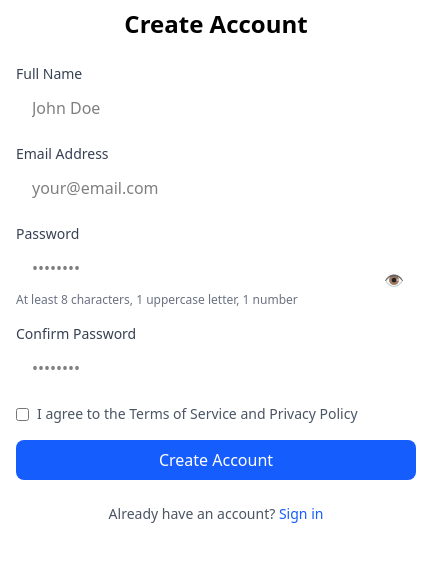
Test case: SignupForm › Password Validation › shows success message when passwords match
The image size is (433, 564).
In the password field labelled "Password": [216, 268] box [16,248,416,288], type "ValidPassword123"
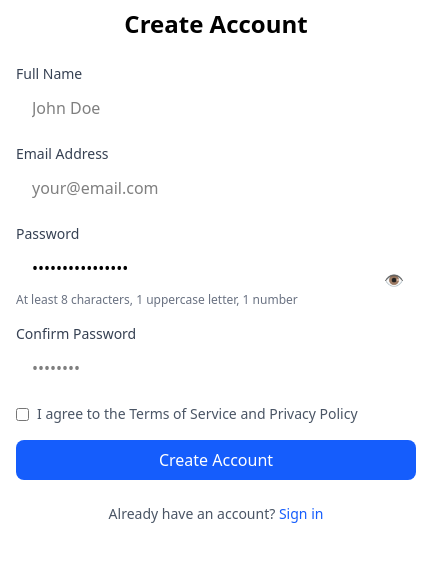
In the password field labelled "Confirm Password": [216, 368] box [16,348,416,388], type "ValidPassword123"
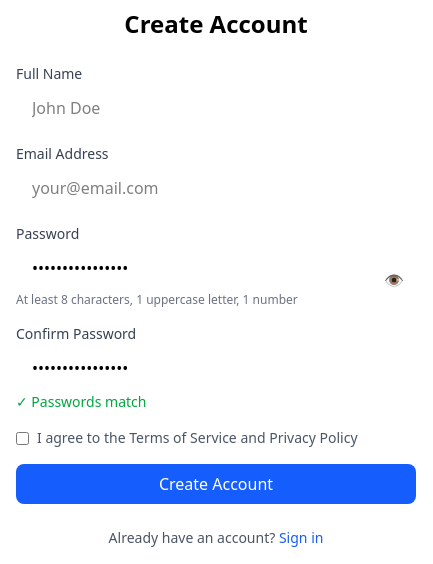
Now the text "✓ Passwords match" is shown, box [16,392,146,411]
